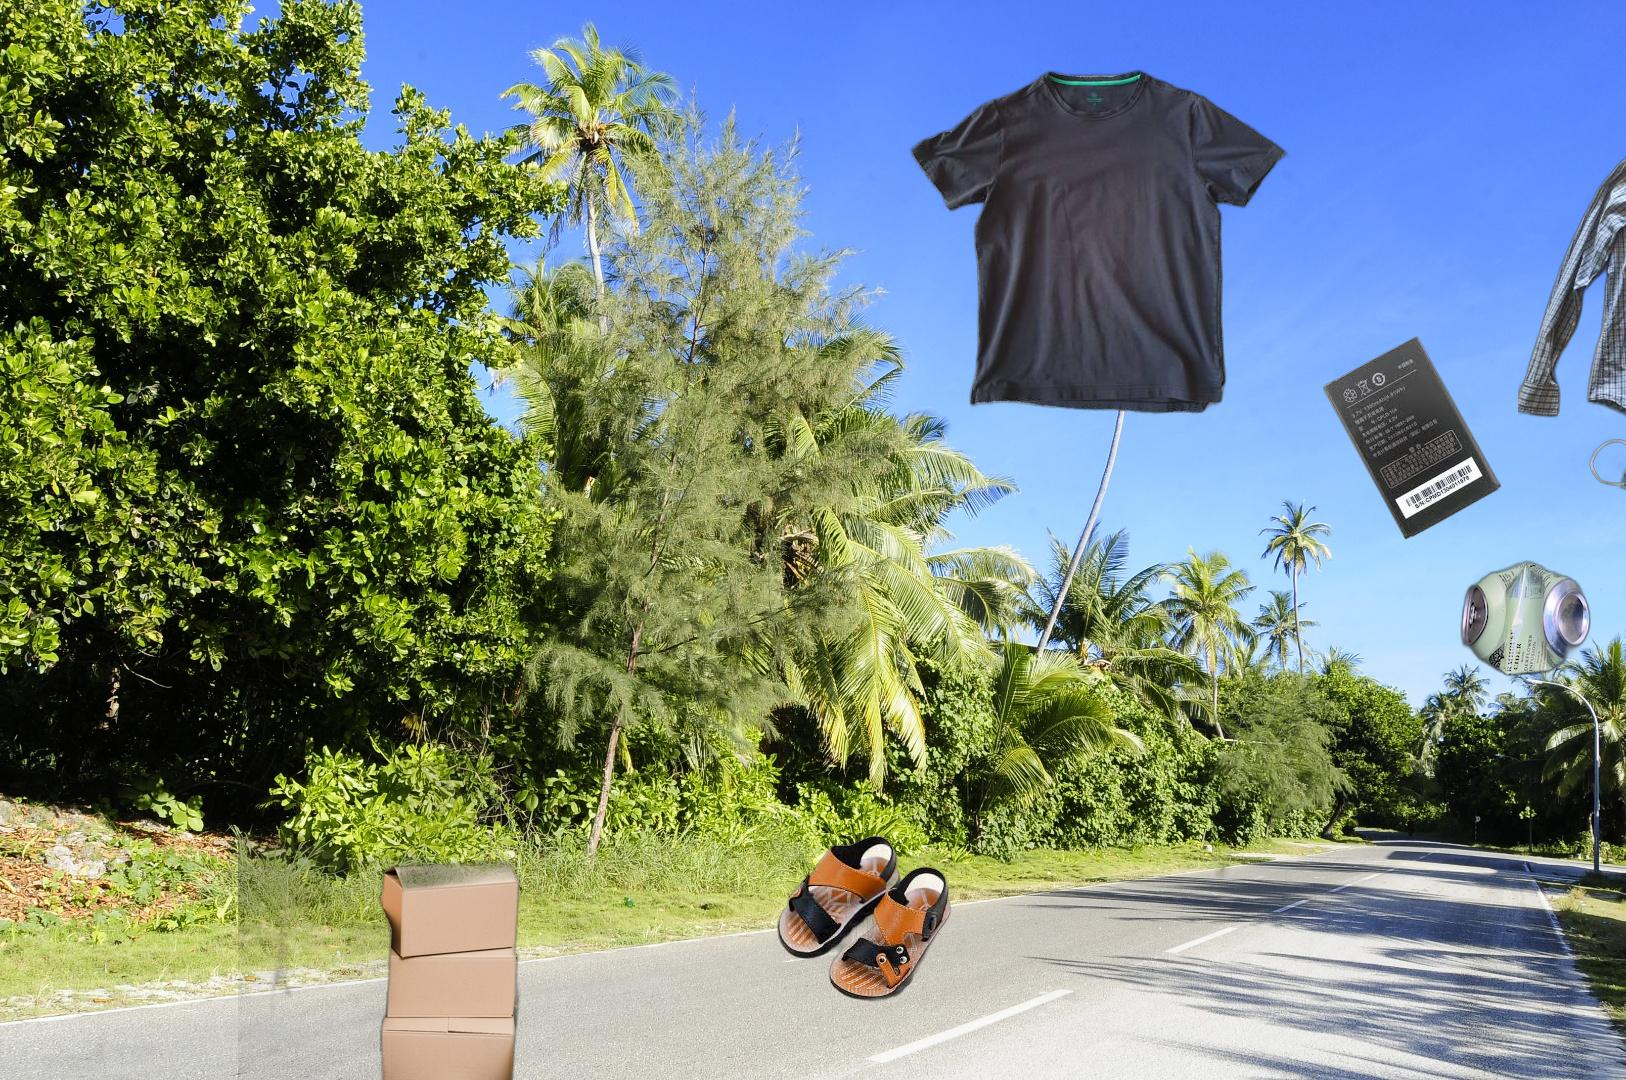battery: (1321, 334, 1504, 542)
clothes: (907, 66, 1291, 418), (1518, 114, 1626, 452)
glass: (238, 760, 750, 1080)
metal-cans: (1457, 226, 1626, 681)
shoes: (775, 833, 953, 1003)
trash: (1587, 436, 1626, 536)
trashbox-cardboard: (42, 855, 525, 1080)
